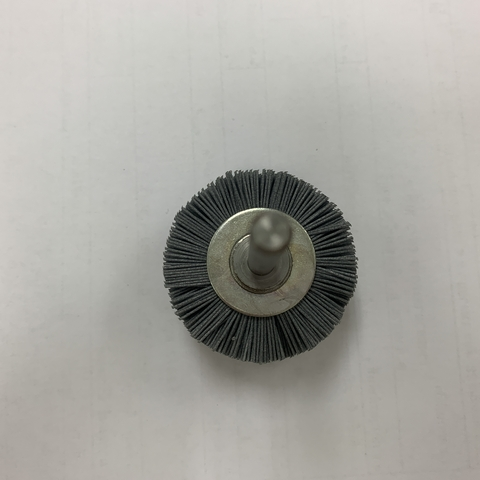Wheel Brush: (156, 166, 373, 364), (135, 176, 368, 360), (191, 155, 374, 377)
